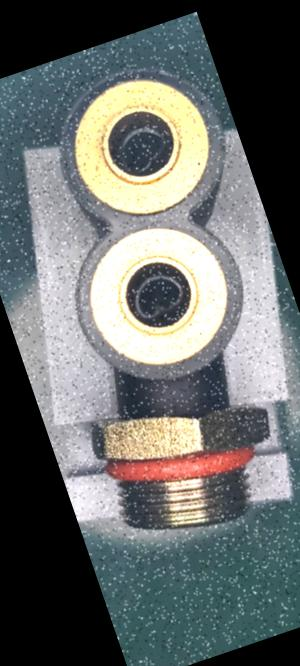joint line: (165, 384, 187, 422)
off-centered: (120, 258, 199, 334), (102, 114, 182, 185)
